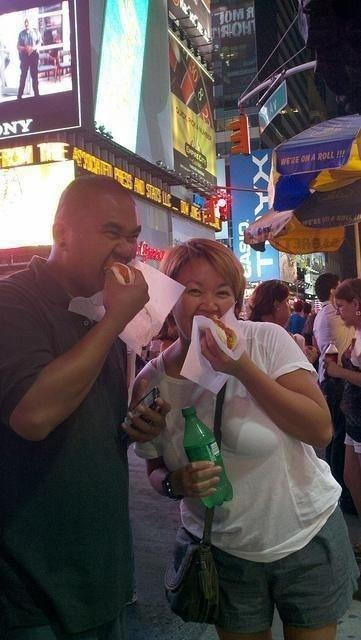bottle-plastic: (182, 404, 237, 508)
